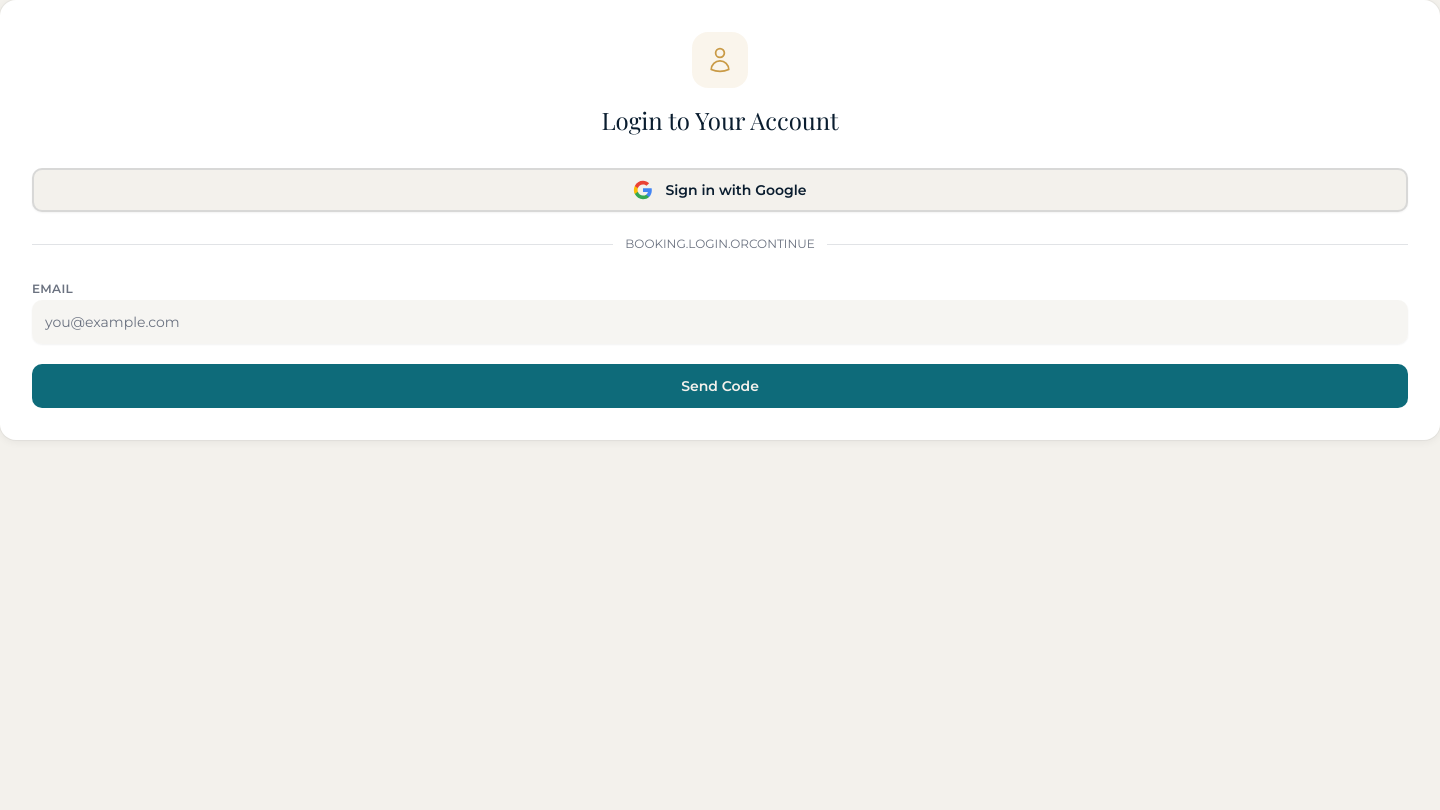
LoginForm › returns to the email step when "Change email" is clicked
Type "demo@quetzal.com" into the field labelled "Email".
click(720, 322); type("demo@quetzal.com")  # box [32,300,1408,344]
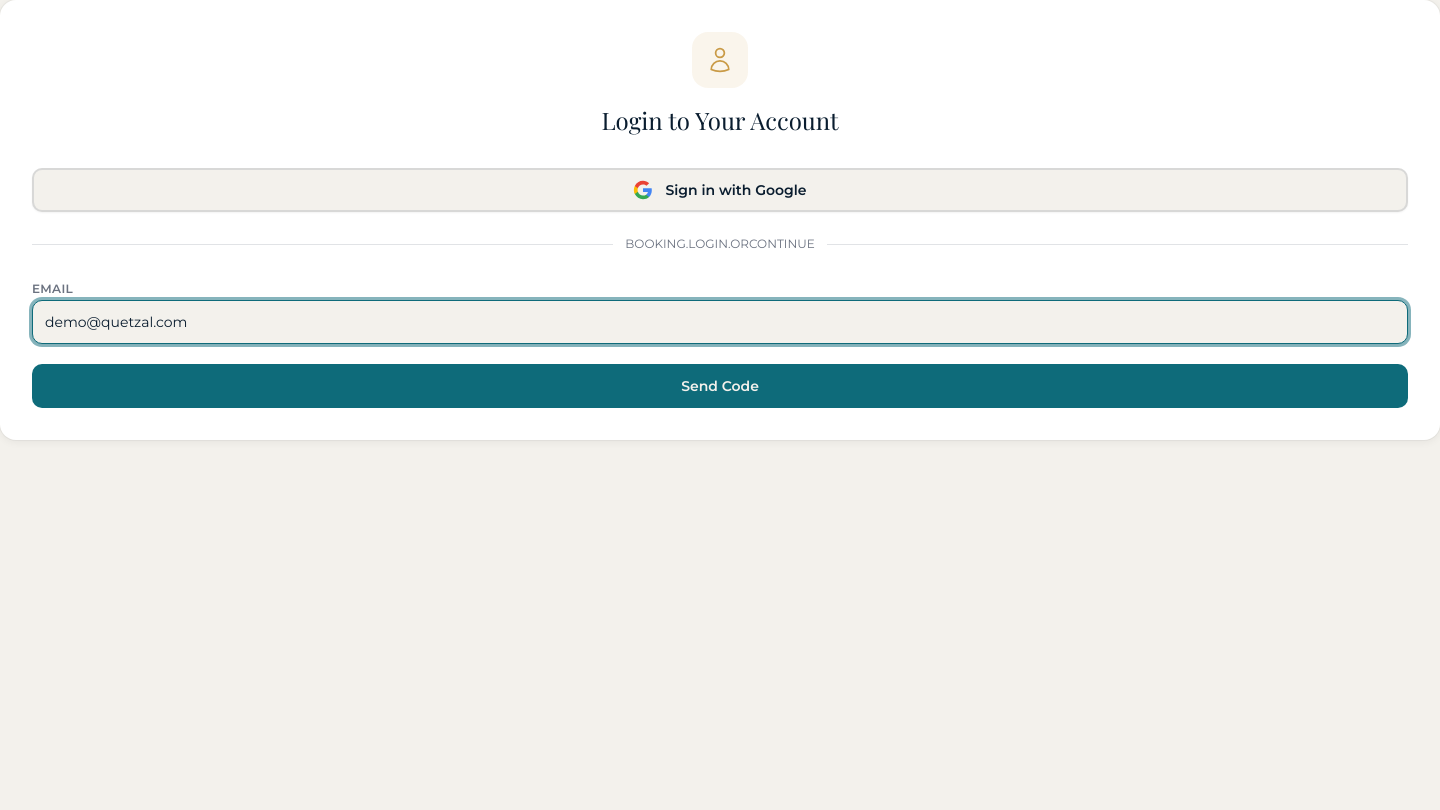
Click the button "Send Code".
click(720, 386)  # box [32,364,1408,408]
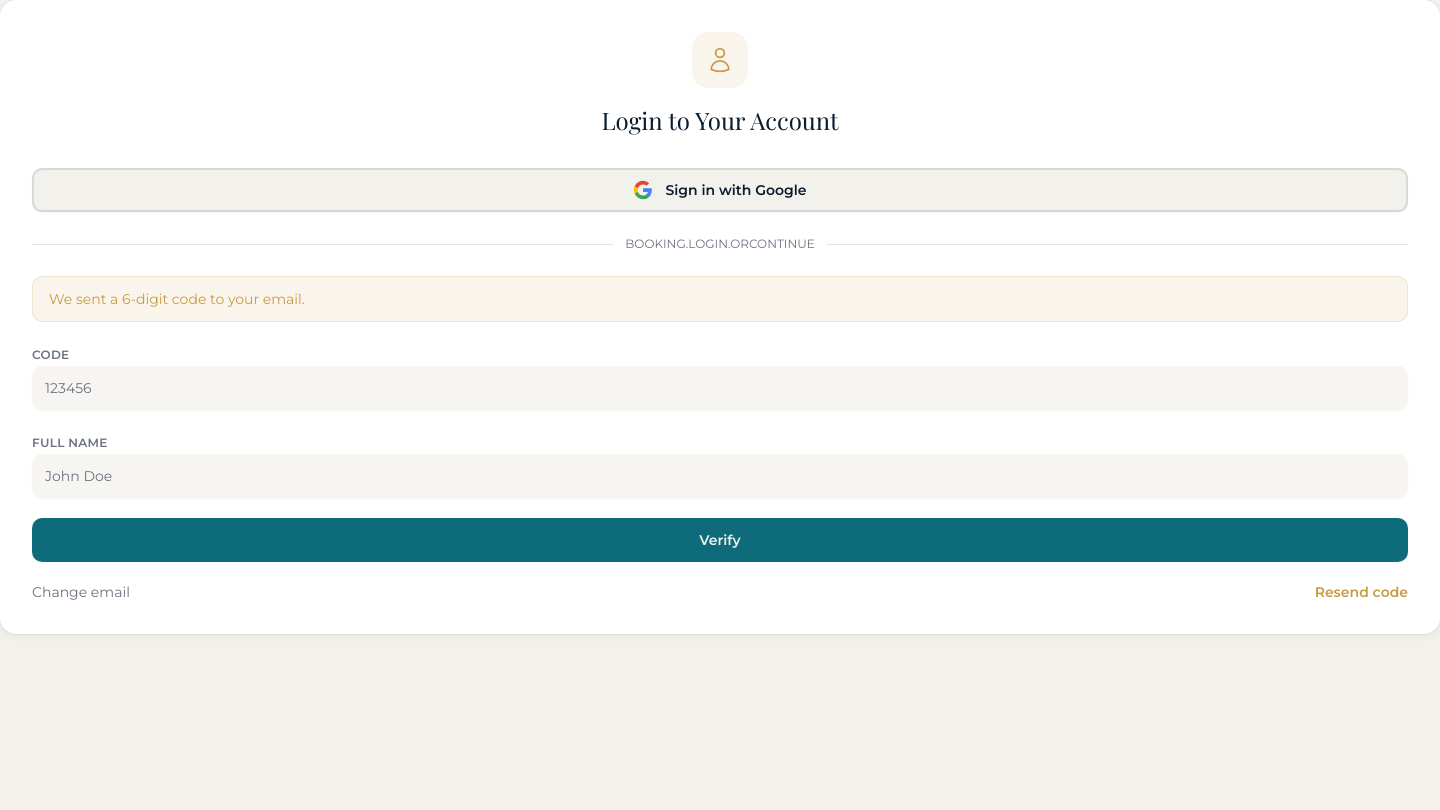
Expected: the field labelled "Code" is shown, [32,366,1408,410]
Click the button "Change email".
click(81, 592)  # box [32,582,130,602]
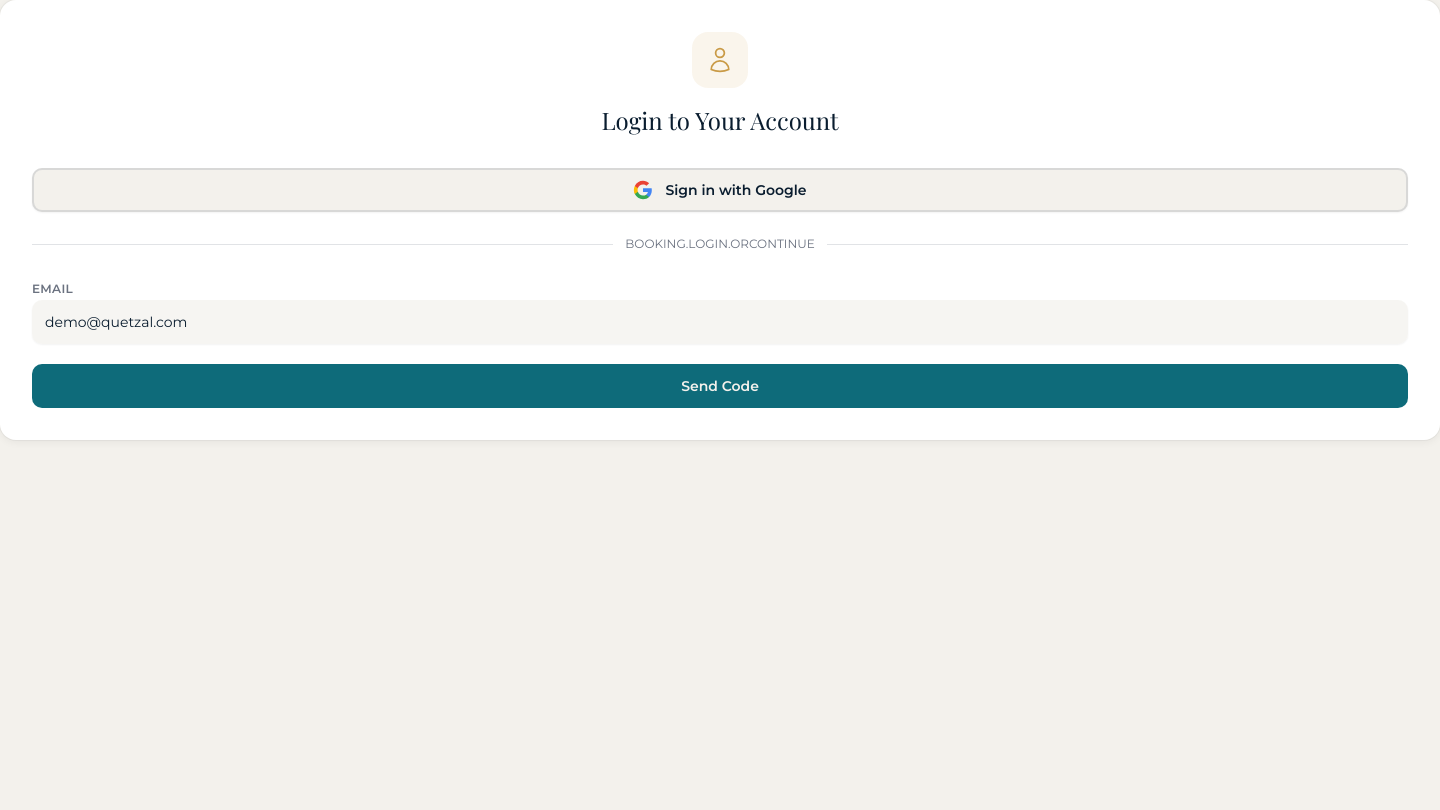
Expected: the button "Send Code" is shown, [32,364,1408,408]
